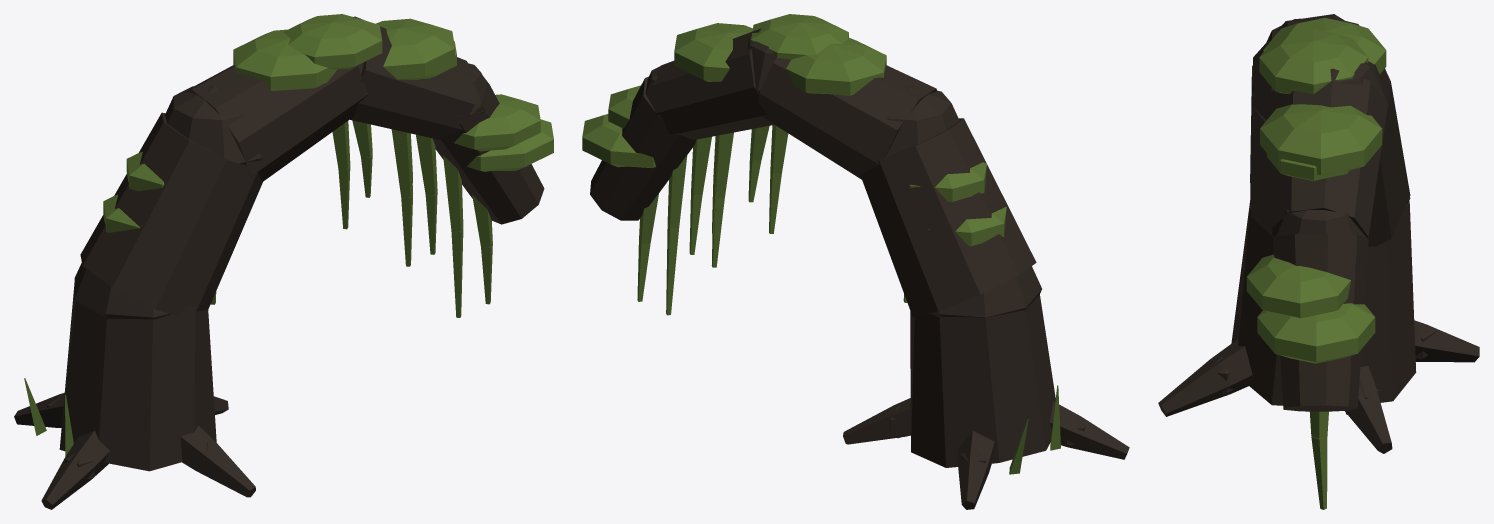
File: swamp_tree.glb
The picture shows the model from 3 angles, left to right: view 1: azimuth 30°, elevation 25°; view 2: azimuth 150°, elevation 25°; view 3: azimuth 270°, elevation 25°; orthographic projection. The views are drawn at different scales.
Visible parts, largest first — view 1: SwampTree; view 2: SwampTree; view 3: SwampTree.
Part boxes in pixels (bbox=[...]): SwampTree: bbox=[14, 14, 553, 509]; SwampTree: bbox=[582, 14, 1129, 509]; SwampTree: bbox=[1158, 14, 1479, 509].
Bounding box in the file's own units: 1.69 × 1.19 × 0.7556.
